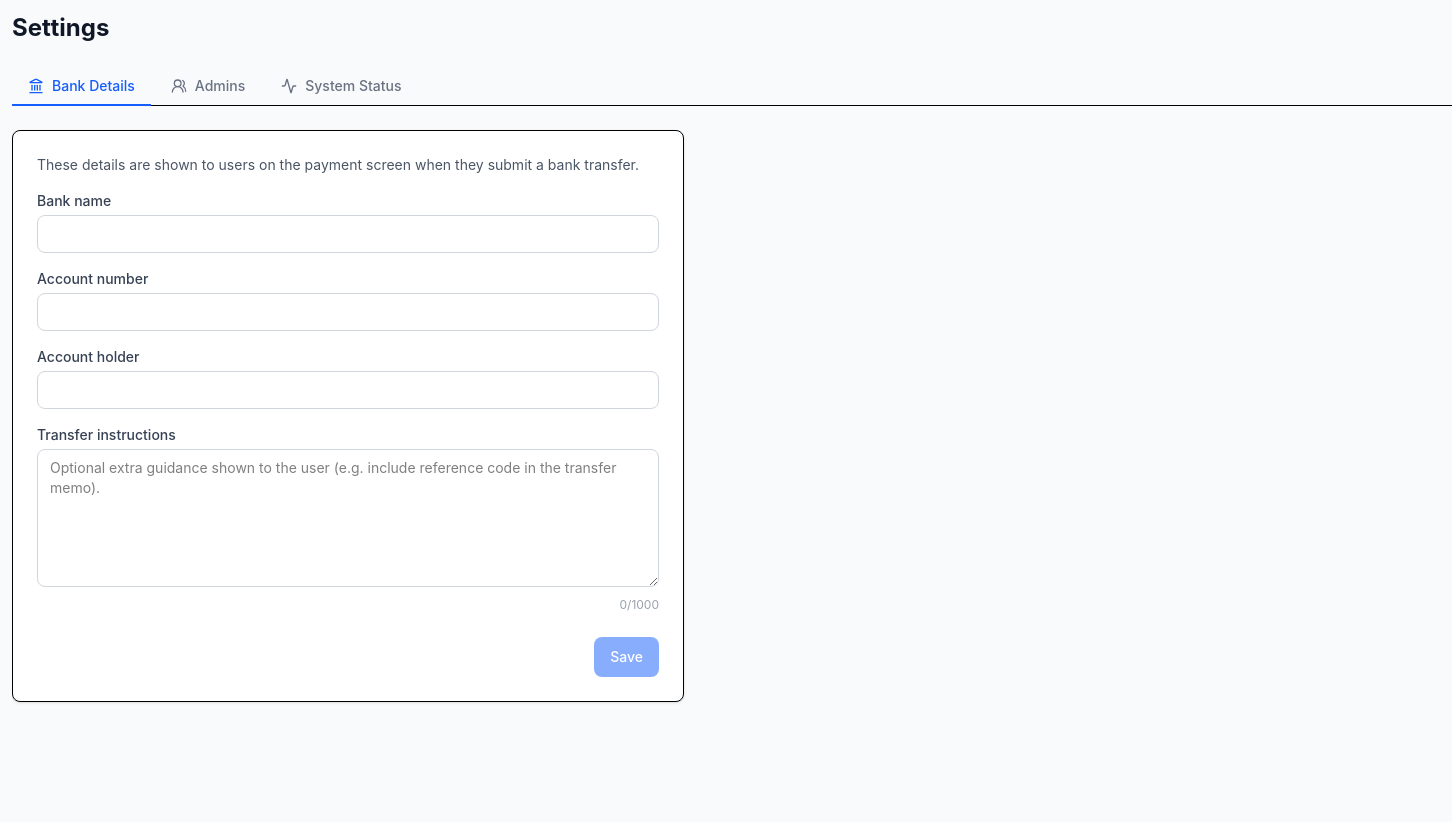
Test: SettingsPage — FreeRADIUS card › marks the card unhealthy when RADIUS does not answer even though the socket is fine
Click the button "System Status" at (341, 87), box [265,68,418,106]
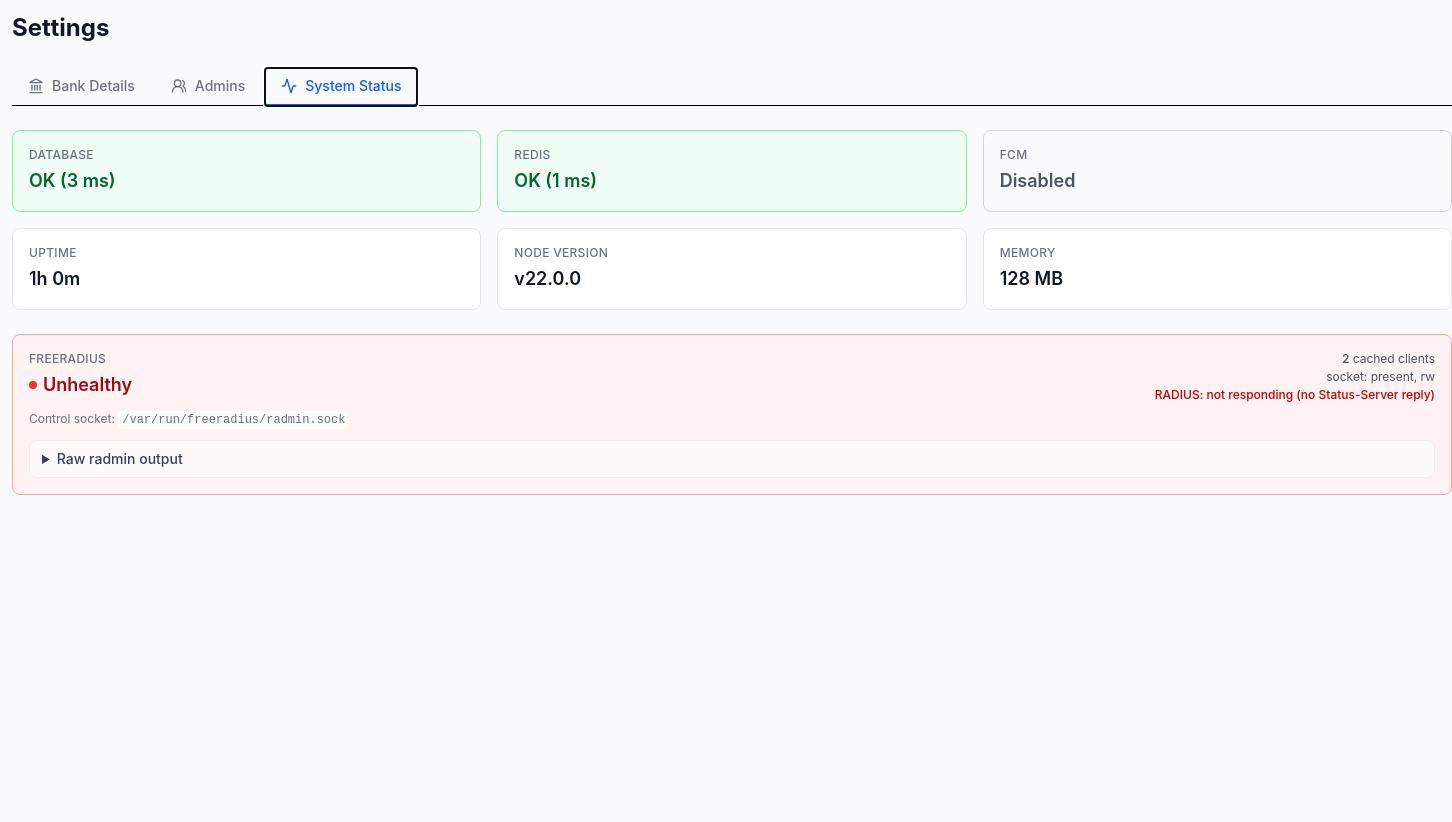
Result: the text "FreeRADIUS" is shown at [29,351,106,366]
Result: the text "Unhealthy" is shown at [29,371,132,399]
Result: the text "RADIUS: not responding (no Status-Server reply)" is shown at [1155,387,1435,403]
